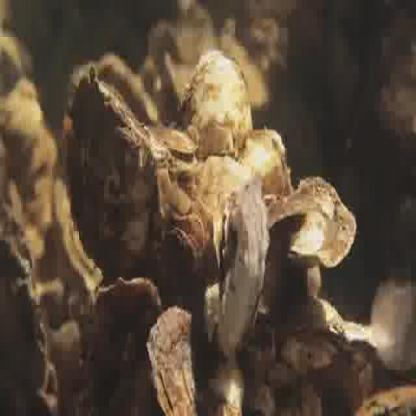Oyster- Indeterminate: (166, 226, 202, 293), (333, 318, 387, 352), (213, 201, 234, 270), (352, 359, 375, 409)
Oyster-Closed: (72, 80, 165, 280), (0, 205, 65, 416), (217, 184, 268, 358), (265, 177, 356, 265), (179, 49, 253, 157), (65, 56, 160, 132), (149, 306, 210, 416), (98, 277, 161, 347), (221, 31, 272, 111), (198, 155, 263, 215), (238, 129, 292, 194), (178, 6, 215, 66), (282, 301, 343, 336), (362, 385, 416, 416), (285, 339, 338, 370), (150, 23, 178, 78), (269, 210, 307, 245), (152, 128, 198, 156)
